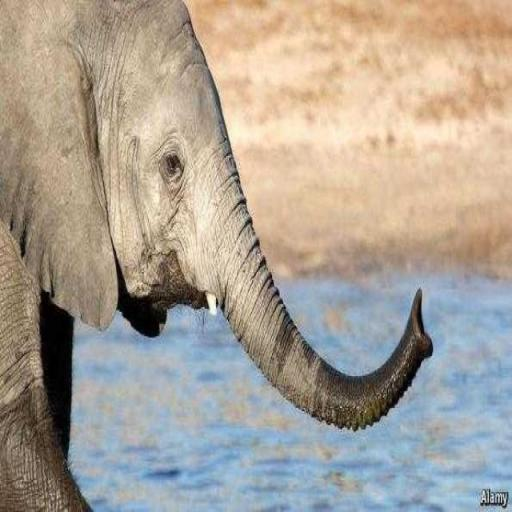Elephant: (0, 0, 433, 510)
